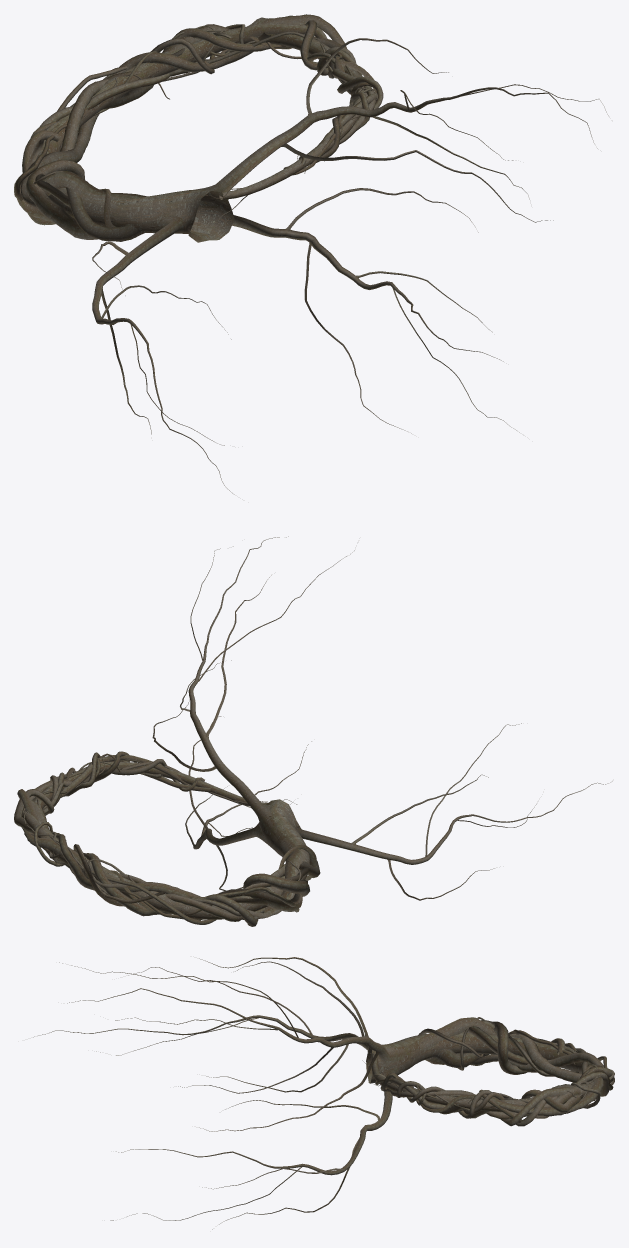
Rendered from Gate.fbx.
3 views of the same model, one above another, from view 1: azimuth 30°, elevation 25°; view 2: azimuth 150°, elevation 25°; view 3: azimuth 270°, elevation 25° (orthographic). The views are drawn at different scales.
Parts seen in each view (by area): view 1: BARK_Mat; view 2: BARK_Mat; view 3: BARK_Mat.
Part boxes in pixels (left/top/right/bottom): BARK_Mat: left=14, top=14, right=608, bottom=494; BARK_Mat: left=14, top=536, right=612, bottom=926; BARK_Mat: left=33, top=957, right=614, bottom=1229.
Size of the model in its own units: 152 by 236 by 123.
